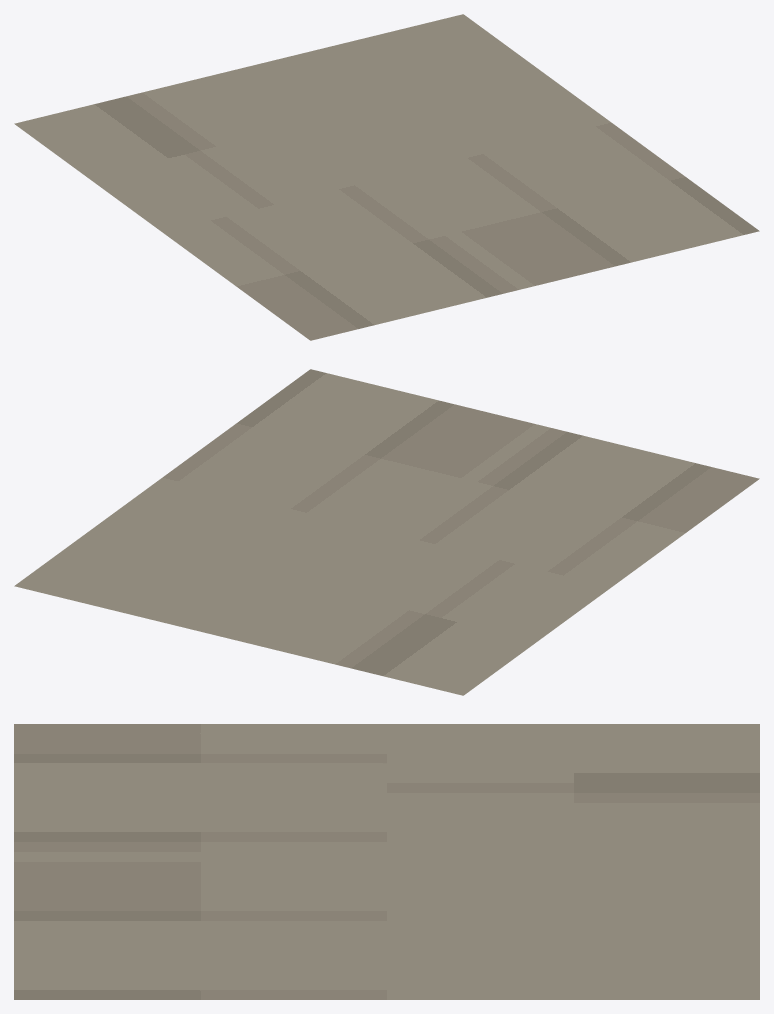
3 renders of one model, top to bottom at view 1: azimuth 30°, elevation 25°; view 2: azimuth 150°, elevation 25°; view 3: azimuth 270°, elevation 25°, orthographic. The views are drawn at different scales.
Bounding box in the file's own units: 0.875 × 0 × 1.
1 material, 1 textured.
